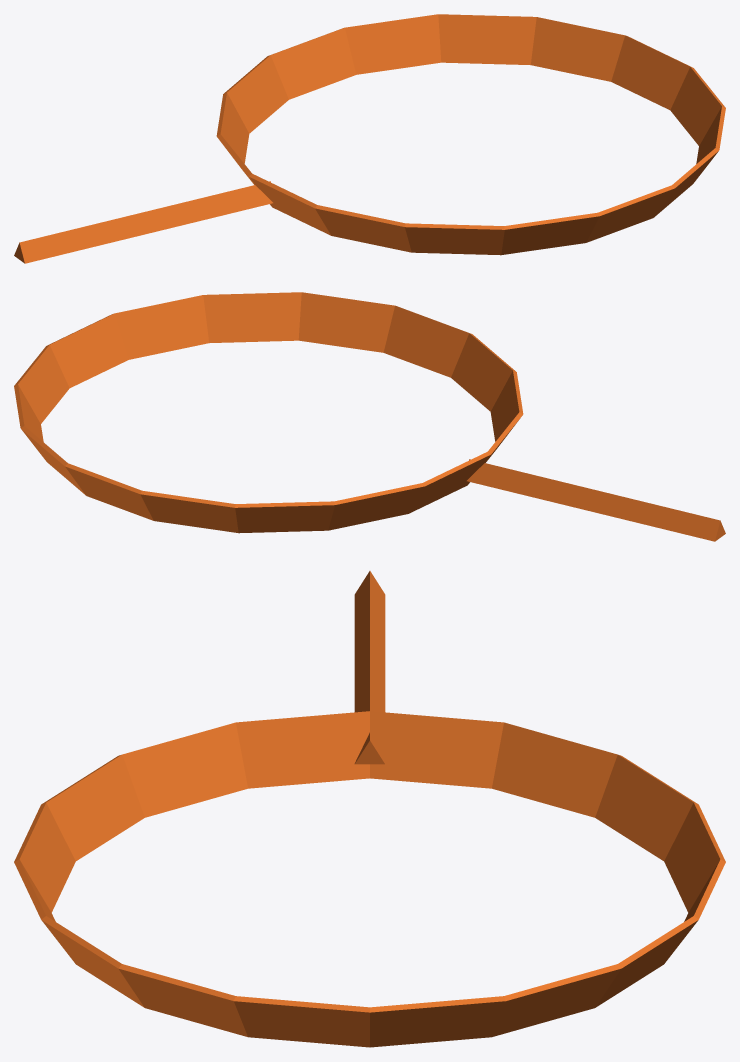
The model's file is basketball.fbx.
3 renders of one model, top to bottom at view 1: azimuth 30°, elevation 25°; view 2: azimuth 150°, elevation 25°; view 3: azimuth 270°, elevation 25°, orthographic. The views are drawn at different scales.
Visible parts, largest first — view 1: 环体, 柱体; view 2: 环体, 柱体; view 3: 环体, 柱体.
Boxes of the visible parts, box(x1,y1,x2,y2) form: 环体: box(216, 14, 725, 255); 柱体: box(14, 181, 272, 263); 环体: box(14, 292, 523, 533); 柱体: box(467, 459, 725, 541); 环体: box(14, 711, 725, 1047); 柱体: box(354, 571, 385, 764).
Bounding box in the file's own units: 320 × 17.6 × 211.
